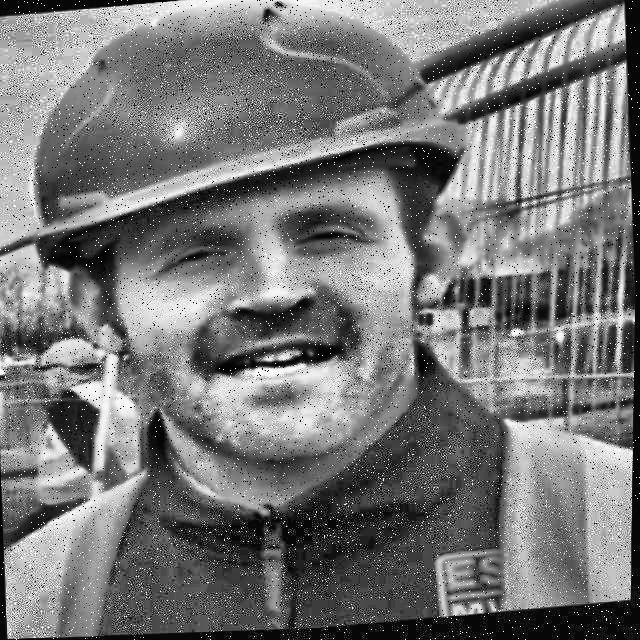Helmet: (3, 0, 504, 498)
